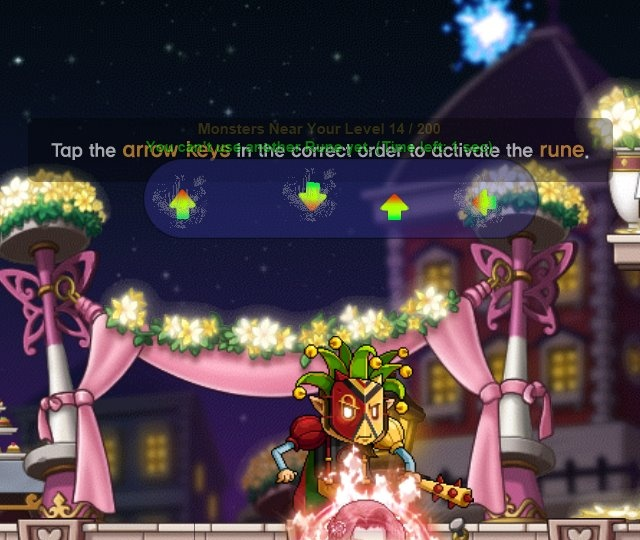rune_box: (137, 151, 549, 248)
